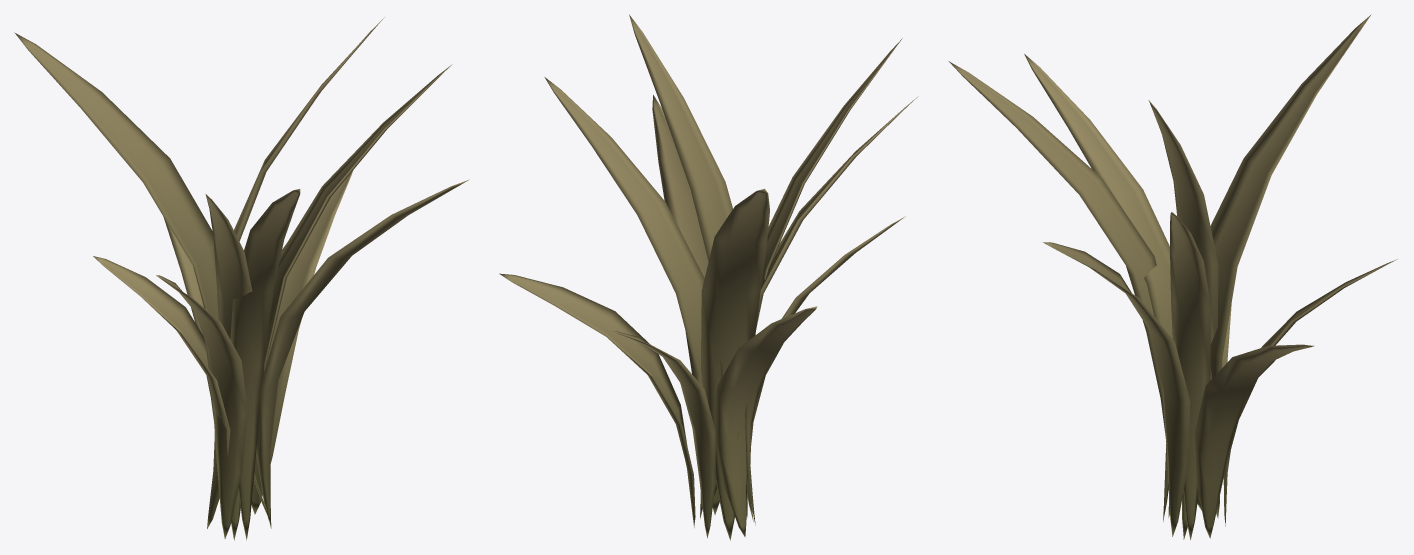
The model's file is dry-tuft-1.glb.
3 views of the same model, side by side, from view 1: azimuth 30°, elevation 25°; view 2: azimuth 150°, elevation 25°; view 3: azimuth 270°, elevation 25° (orthographic). The views are drawn at different scales.
Parts seen in each view (by area): view 1: DryTuft1; view 2: DryTuft1; view 3: DryTuft1.
Part boxes in pixels (left/top/right/bottom): DryTuft1: left=14, top=17, right=469, bottom=540; DryTuft1: left=499, top=14, right=918, bottom=540; DryTuft1: left=948, top=14, right=1397, bottom=539.
Bounding box in the file's own units: 0.5412 × 0.7548 × 0.633.
